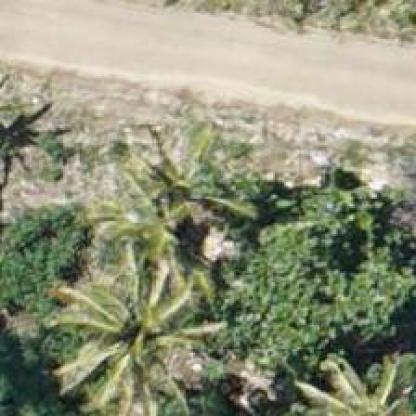coconut tree: (35, 254, 230, 416), (285, 349, 414, 415)
